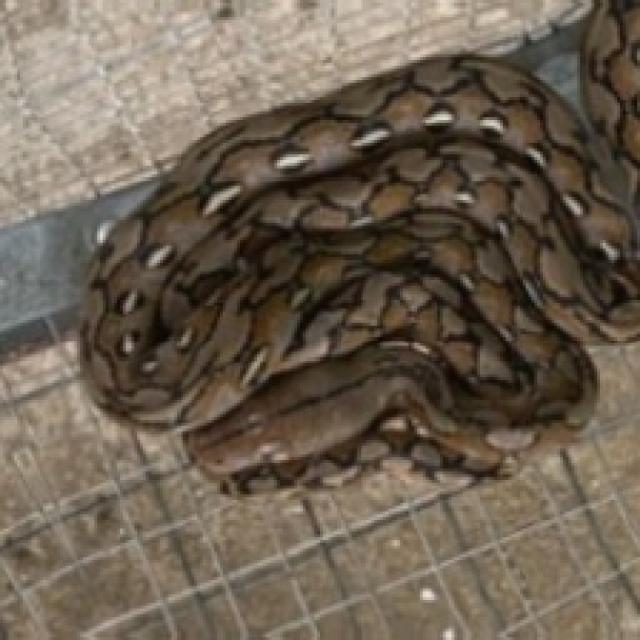reticulated python: (80, 54, 637, 489), (586, 3, 637, 163)
